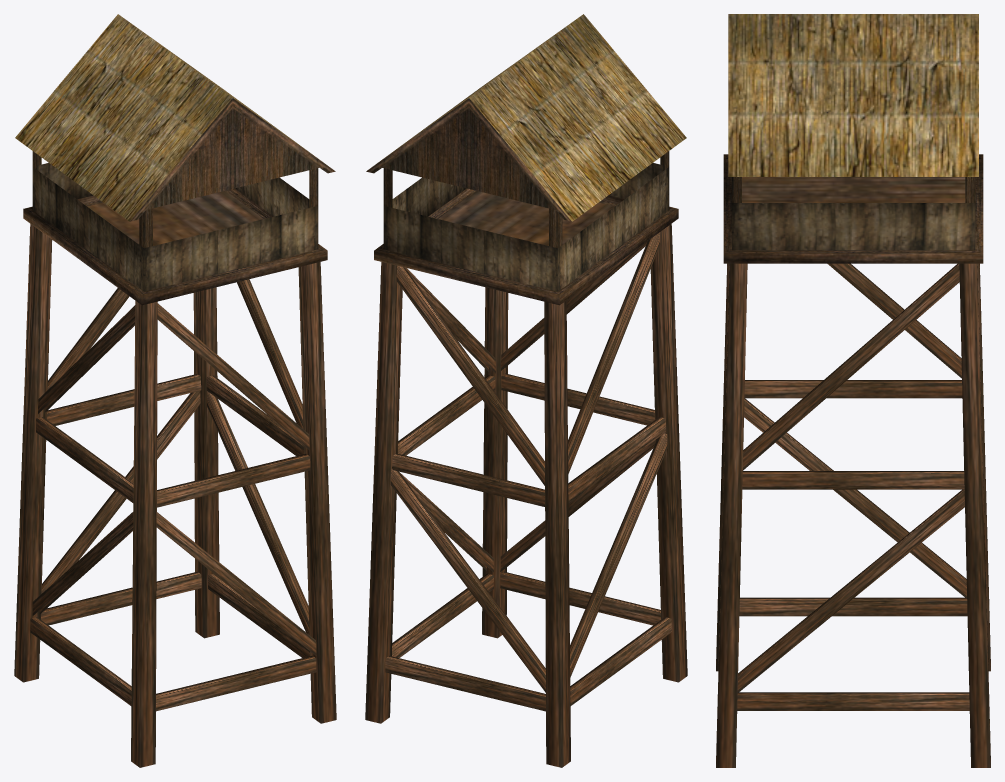
Rendered from tower_02.fbx.
The picture shows the model from 3 angles, left to right: view 1: azimuth 30°, elevation 25°; view 2: azimuth 150°, elevation 25°; view 3: azimuth 270°, elevation 25°; orthographic projection. The views are drawn at different scales.
Parts seen in each view (by area): view 1: polySurface1; view 2: polySurface1; view 3: polySurface1.
Boxes of the visible parts, x1,y1,x2,y2 form: polySurface1: (14, 14, 336, 767); polySurface1: (365, 14, 687, 767); polySurface1: (716, 14, 990, 767).
Bounding box in the file's own units: 891 × 2649 × 941.
